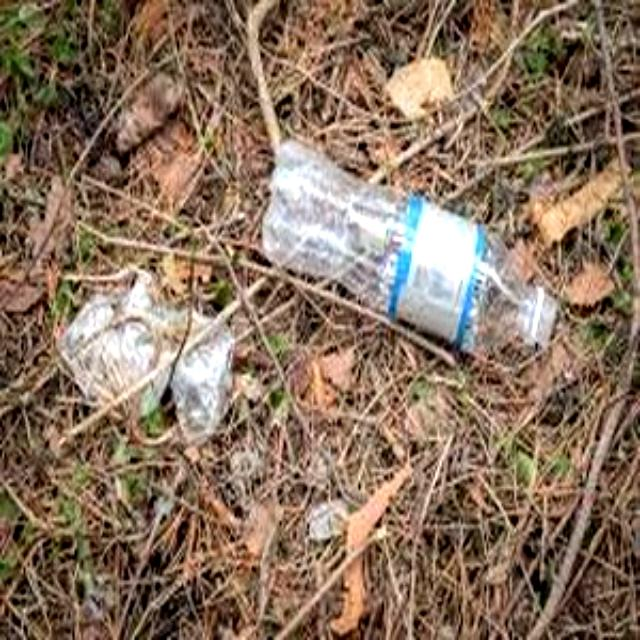Plastic: (255, 140, 560, 360)
